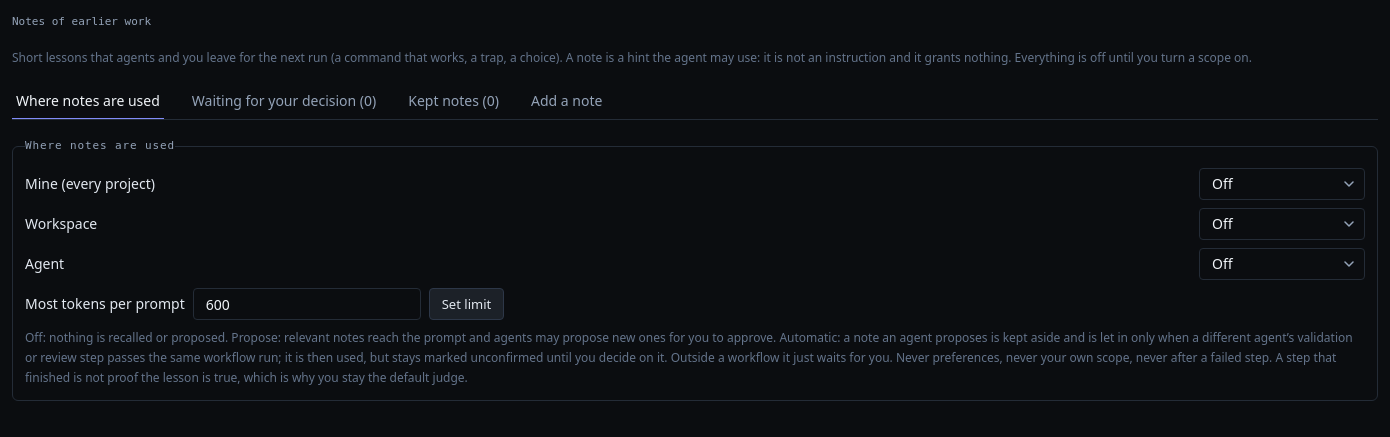
Scenario: MemorySettings › says why a note was refused, in the person’s language
Step 1. Click the tab "Add a note" → (567, 102), box x1=527 y1=84 x2=606 y2=120
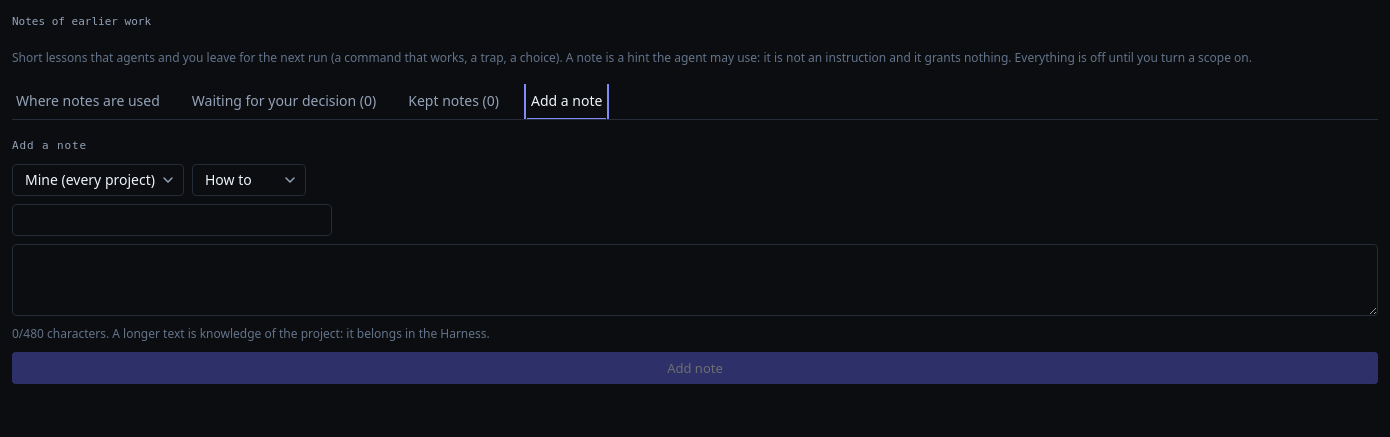
Step 2. Type "Login" into the field named "Title" → (172, 220), box x1=12 y1=204 x2=332 y2=236
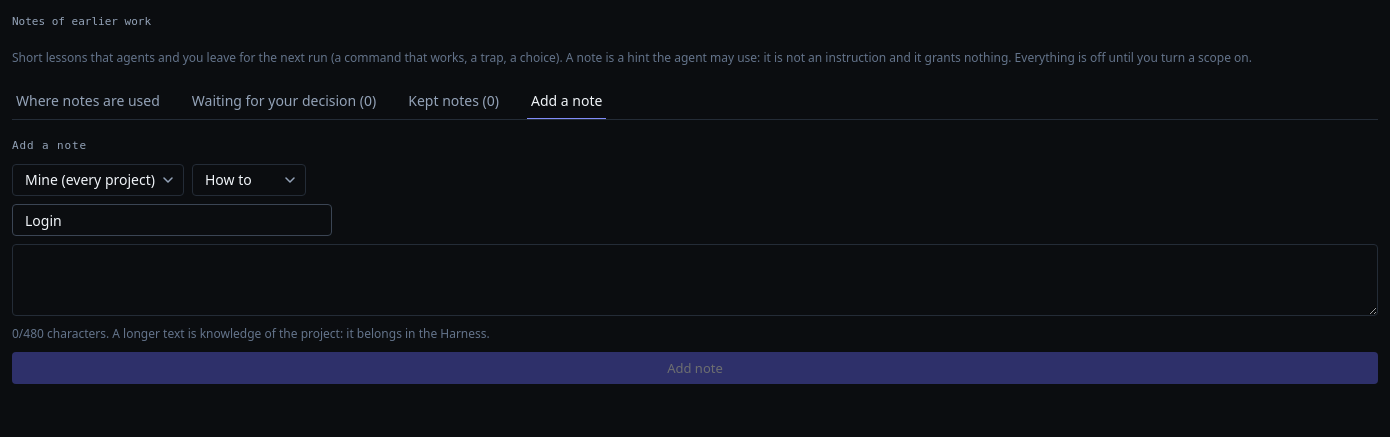
Step 3. Type "a key" into the text box named "Lesson" → (695, 280), box x1=12 y1=244 x2=1378 y2=316
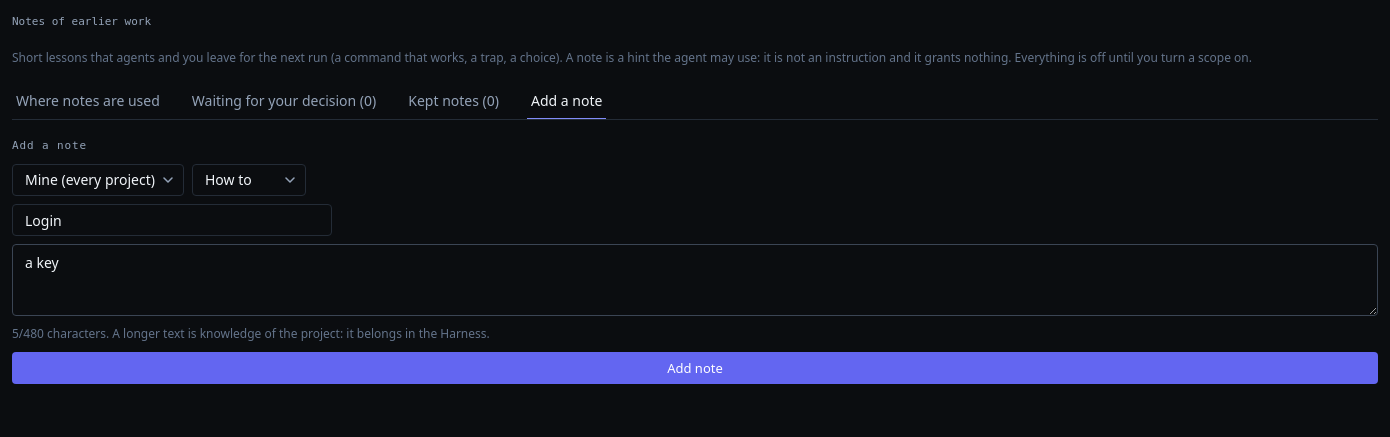
Step 4. Click the button "Add note" → (695, 368), box x1=12 y1=352 x2=1378 y2=384
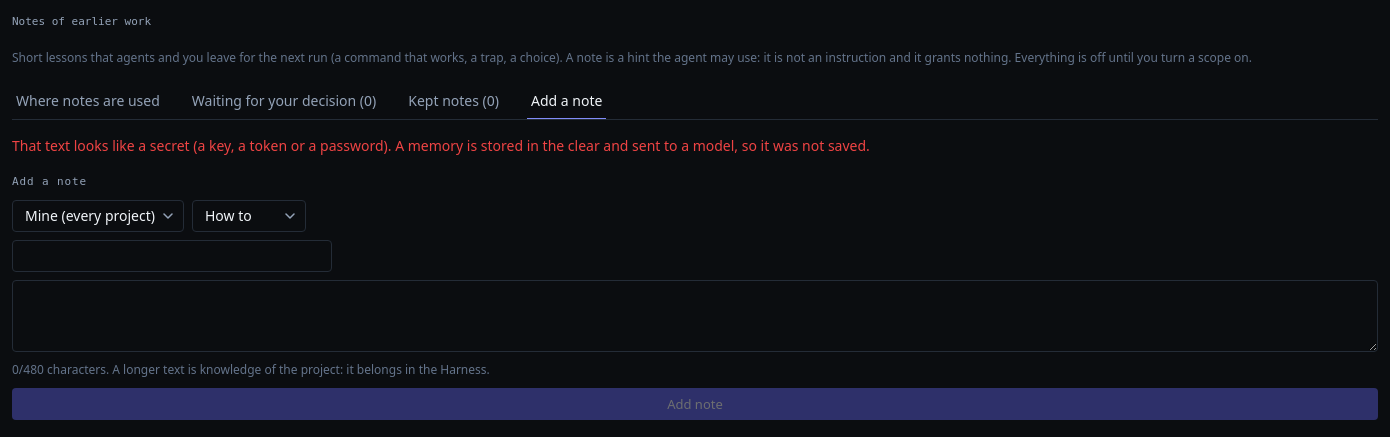
Check: the message shows "looks like a secret", box x1=12 y1=136 x2=870 y2=155
